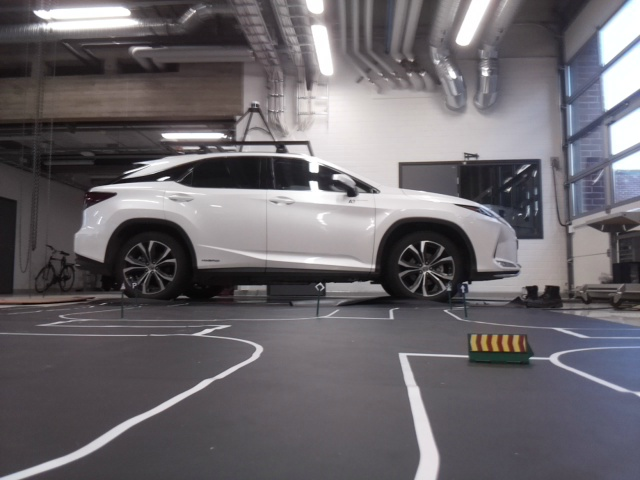ClosedRoadStand: (466, 330, 528, 354)
